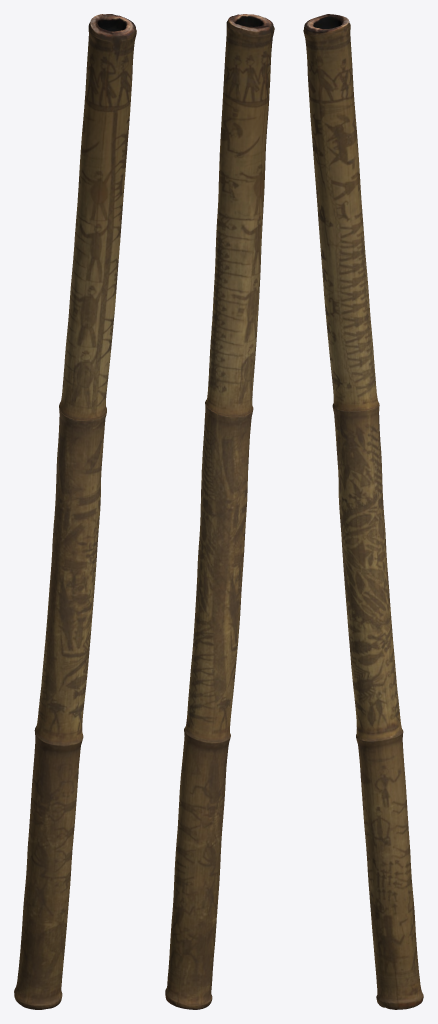
The model's file is preview.glb.
3 renders of one model, left to right at view 1: azimuth 90°, elevation 25°; view 2: azimuth 150°, elevation 25°; view 3: azimuth 270°, elevation 25°, orthographic. The views are drawn at different scales.
Parts seen in each view (by area): view 1: Polygonal_Model_1_ADVIMG_1978_412_1555_BambooCynlinder_Base_; view 2: Polygonal_Model_1_ADVIMG_1978_412_1555_BambooCynlinder_Base_; view 3: Polygonal_Model_1_ADVIMG_1978_412_1555_BambooCynlinder_Base_.
Part boxes in pixels (x1,y1,x2,y2): Polygonal_Model_1_ADVIMG_1978_412_1555_BambooCynlinder_Base_: [14, 14, 136, 1009]; Polygonal_Model_1_ADVIMG_1978_412_1555_BambooCynlinder_Base_: [165, 14, 274, 1009]; Polygonal_Model_1_ADVIMG_1978_412_1555_BambooCynlinder_Base_: [303, 14, 423, 1009].
Bounding box in the file's own units: 0.0846 × 1.16 × 0.1295.
1 material, 1 textured.
